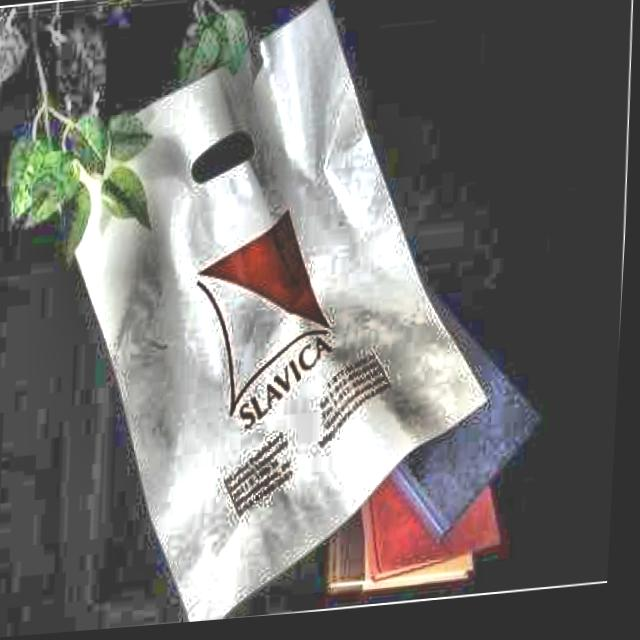Plastic: (19, 0, 533, 637)
